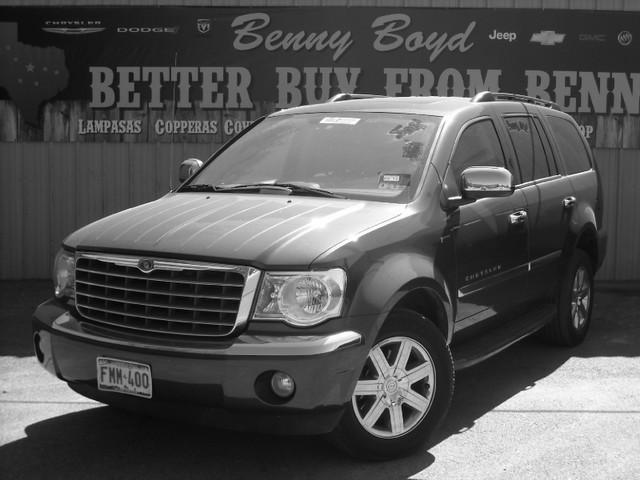car: (32, 90, 605, 467)
